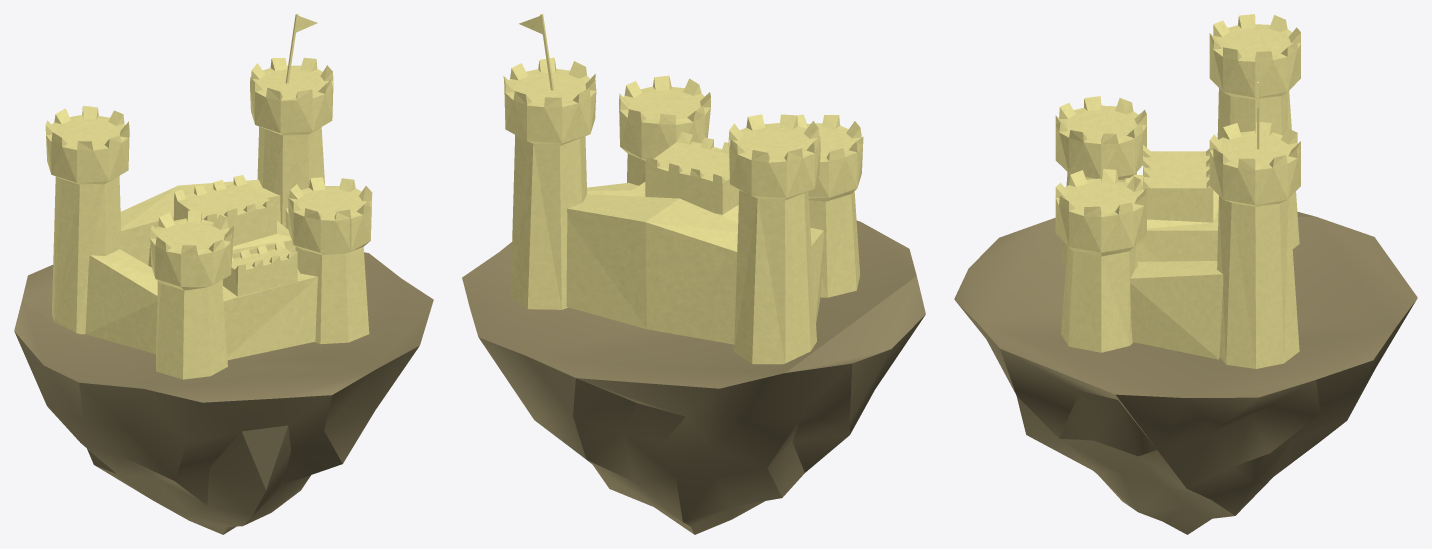
Rendered from sand_castle6.fbx.
3 views of the same model, side by side, from view 1: azimuth 30°, elevation 25°; view 2: azimuth 150°, elevation 25°; view 3: azimuth 270°, elevation 25° (orthographic). The views are drawn at different scales.
Parts seen in each view (by area): view 1: Big Sand Castle - Low Poly, Icosphere; view 2: Big Sand Castle - Low Poly, Icosphere; view 3: Icosphere, Big Sand Castle - Low Poly.
Boxes of the visible parts, box(x1,y1,x2,y2) form: Big Sand Castle - Low Poly: box(45, 14, 372, 379); Icosphere: box(14, 252, 433, 534); Big Sand Castle - Low Poly: box(503, 14, 863, 364); Icosphere: box(462, 220, 925, 534); Icosphere: box(954, 211, 1417, 534); Big Sand Castle - Low Poly: box(1055, 14, 1300, 368).
Bounding box in the file's own units: 1176 × 1479 × 1221.
